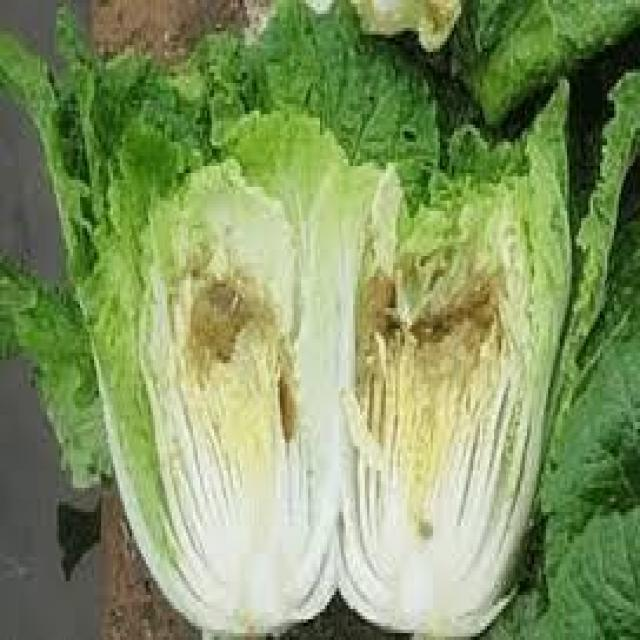food_waste: (0, 0, 638, 637)
